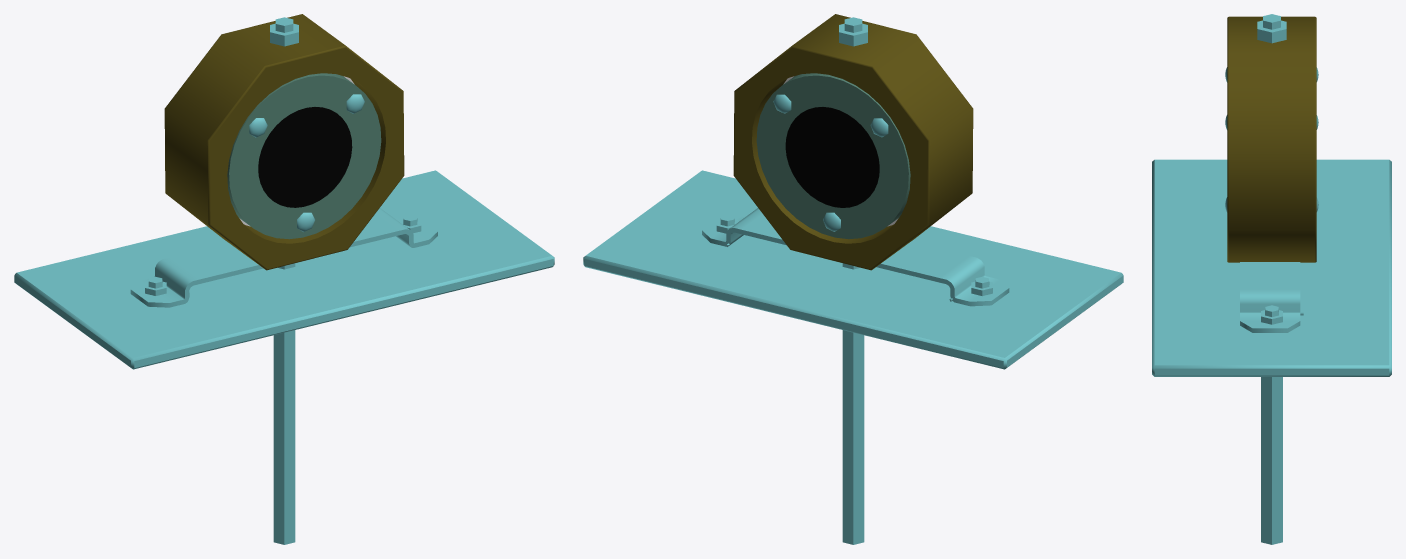
Rendered from 位移测量机.fbx.
3 views of the same model, side by side, from view 1: azimuth 30°, elevation 25°; view 2: azimuth 150°, elevation 25°; view 3: azimuth 270°, elevation 25° (orthographic).
Parts seen in each view (by area): view 1: 立方体, 圆柱_圆柱_1, 圆柱_2_3, 封顶_1_2, 立方体_1, 圆柱_2_2; view 2: 立方体, 圆柱_圆柱_1, 圆柱_2_3, 封顶_2, 立方体_1, 圆柱_2_2; view 3: 立方体, 圆柱_圆柱_1, 圆柱_2_2, 立方体_1, 圆柱_3_2.
Part boxes in pixels (x1=…): 立方体: x1=14, y1=170, x2=554, y2=369; 圆柱_圆柱_1: x1=164, y1=14, x2=404, y2=270; 圆柱_2_3: x1=227, y1=73, x2=381, y2=239; 封顶_1_2: x1=258, y1=107, x2=352, y2=207; 立方体_1: x1=130, y1=208, x2=437, y2=307; 圆柱_2_2: x1=273, y1=17, x2=295, y2=544; 立方体: x1=583, y1=170, x2=1123, y2=369; 圆柱_圆柱_1: x1=733, y1=14, x2=973, y2=270; 圆柱_2_3: x1=756, y1=73, x2=910, y2=239; 封顶_2: x1=785, y1=107, x2=879, y2=207; 立方体_1: x1=702, y1=208, x2=1009, y2=306; 圆柱_2_2: x1=842, y1=17, x2=864, y2=544; 立方体: x1=1152, y1=159, x2=1391, y2=376; 圆柱_圆柱_1: x1=1227, y1=16, x2=1316, y2=262; 圆柱_2_2: x1=1261, y1=14, x2=1282, y2=544; 立方体_1: x1=1240, y1=262, x2=1303, y2=332; 圆柱_3_2: x1=1257, y1=20, x2=1286, y2=43.
Size of the model in its own units: 200 by 234 by 97.42.
